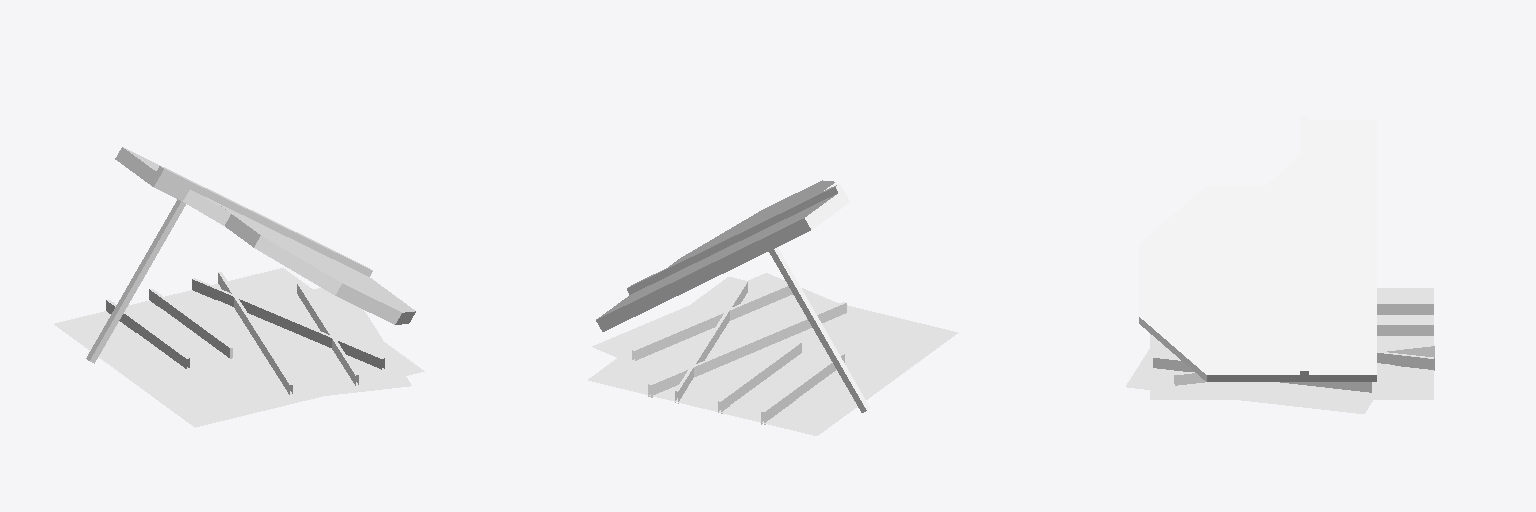
Rendered from mt_grandpiano_lid.obj.
The picture shows the model from 3 angles: view 1: azimuth 30°, elevation 25°; view 2: azimuth 150°, elevation 25°; view 3: azimuth 270°, elevation 25°; orthographic projection.
Visible parts, largest first — view 1: cube.003, cube.004, octagon.002, cube.005, octagon.005, cube.006, octagon.001, octagon.000, octagon.004, cube.002, cube.000, cube.001 (+2 smaller); view 2: cube.003, cube.004, octagon.002, cube.000, octagon.004, octagon.005, cube.006, cube, cube.002, cube.005, cube.001; view 3: octagon.002, cube.003, octagon.000, octagon.004, cube.004, octagon, octagon.005, octagon.001, cube, cube.000, cube.005, cube.001 (+1 smaller).
Boxes of the visible parts, box(x1,y1,x2,y2) form: cube.003: box(125, 288, 411, 411); cube.004: box(54, 268, 424, 427); octagon.002: box(176, 173, 413, 309); cube.005: box(192, 278, 384, 369); octagon.005: box(156, 166, 372, 276); cube.006: box(86, 199, 185, 363); octagon.001: box(254, 236, 341, 294); octagon.000: box(310, 259, 401, 324); octagon.004: box(115, 147, 204, 201); cube.002: box(149, 289, 232, 358); cube.000: box(218, 272, 292, 394); cube.001: box(106, 299, 189, 368); cube.003: box(592, 273, 930, 416); cube.004: box(588, 277, 957, 435); octagon.002: box(596, 182, 837, 331); cube.000: box(648, 302, 846, 397); octagon.004: box(751, 190, 849, 255); octagon.005: box(627, 184, 842, 294); cube.006: box(769, 247, 869, 412); cube: box(632, 284, 792, 360); cube.002: box(718, 342, 801, 413); cube.005: box(675, 281, 747, 403); cube.001: box(761, 353, 844, 424); octagon.002: box(1207, 185, 1376, 381); cube.003: box(1126, 315, 1424, 413); octagon.000: box(1139, 244, 1207, 316); octagon.004: box(1309, 120, 1376, 184); cube.004: box(1150, 288, 1433, 399); octagon: box(1139, 317, 1206, 381); octagon.005: box(1300, 116, 1308, 374); octagon.001: box(1139, 185, 1206, 243); cube: box(1153, 356, 1371, 392); cube.000: box(1377, 351, 1434, 370); cube.005: box(1174, 345, 1434, 385); cube.001: box(1377, 303, 1433, 314).
Bounding box in the file's own units: 2.7 × 1.92 × 2.7.